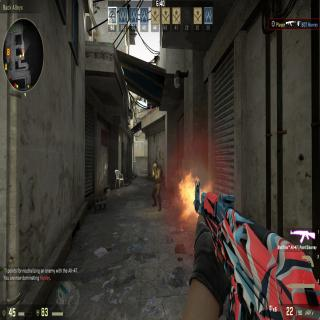CT-Body: (151, 160, 163, 212)
CT-Head: (153, 160, 159, 171)
